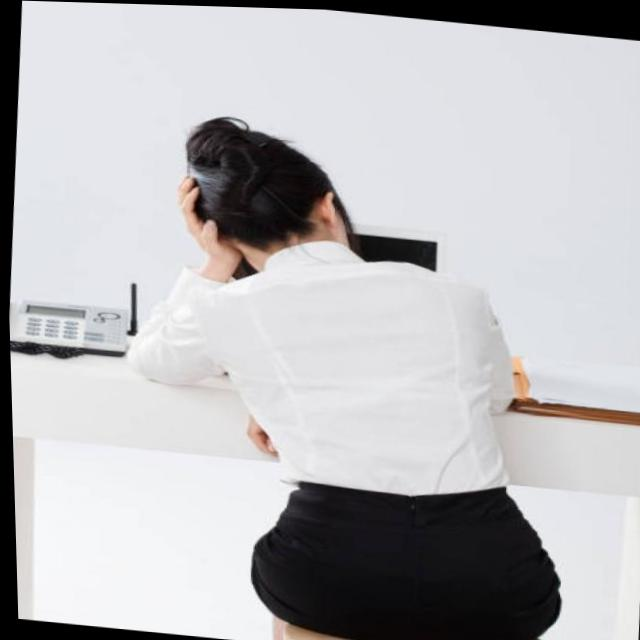no helmet: (167, 121, 374, 279)
